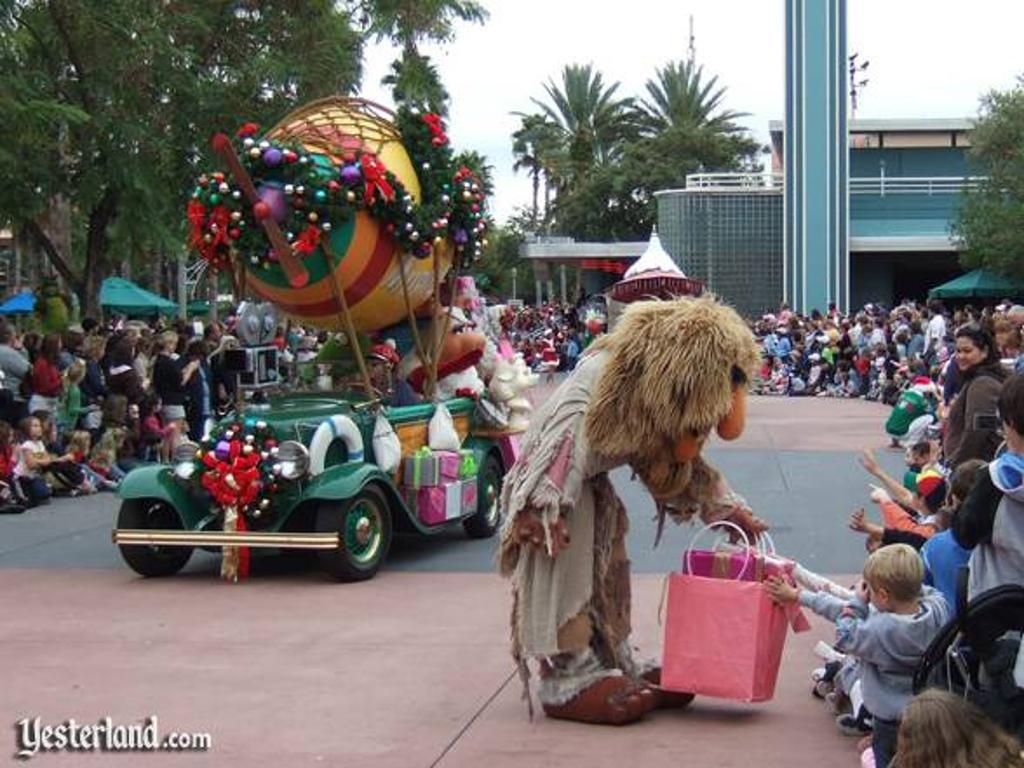face: (957, 337, 983, 369), (990, 334, 1012, 364), (367, 355, 389, 382), (868, 574, 883, 612), (1009, 313, 1024, 336), (912, 491, 927, 510), (27, 420, 42, 436), (954, 315, 969, 330), (906, 450, 917, 466), (915, 453, 927, 467), (6, 329, 17, 344), (208, 327, 218, 342), (97, 345, 107, 360), (166, 338, 176, 352), (75, 371, 86, 383), (90, 325, 100, 338), (153, 400, 162, 413), (142, 343, 151, 352), (277, 327, 285, 336)
